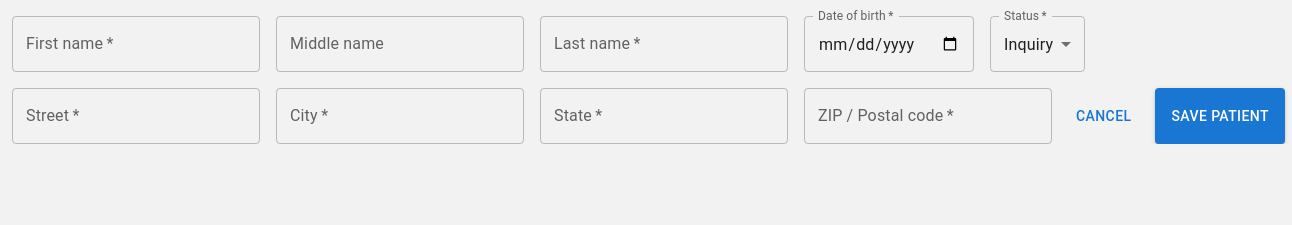
Test: PatientForm › shows error if API returns error
Type "Jane" into the field labelled "First name *".
click(136, 44); type("Jane")  # box [12,16,260,72]
Type "Smith" into the field labelled "Last name *".
click(664, 44); type("Smith")  # box [540,16,788,72]
Type "1990-05-05" into the date field labelled "Date of birth *".
click(889, 44); type("1990-05-05")  # box [804,16,974,72]
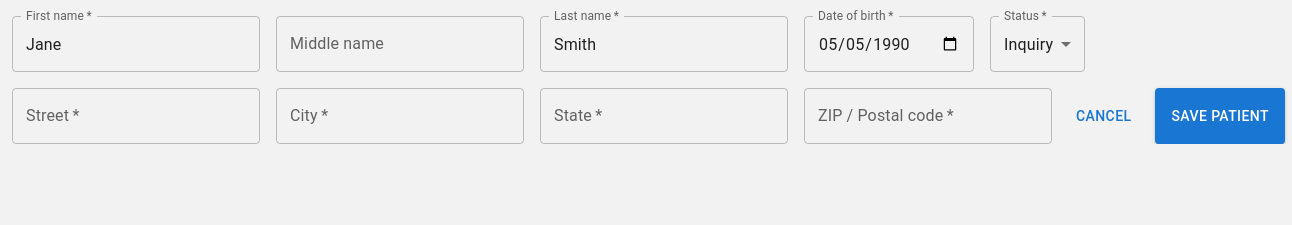
Type "123 Main St" into the field labelled "Street *".
click(136, 116); type("123 Main St")  # box [12,88,260,144]
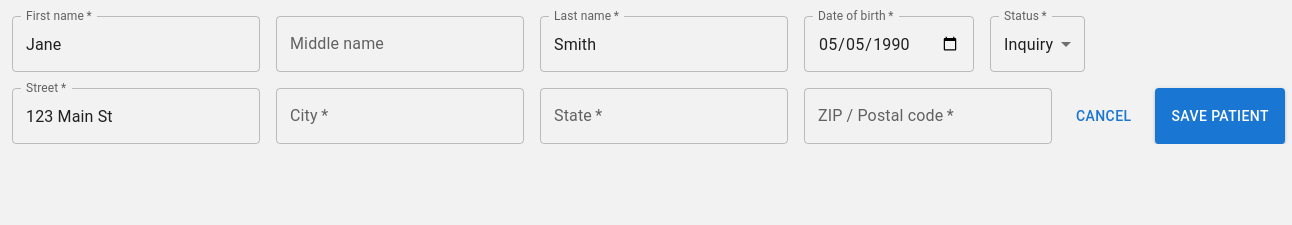
Type "Townsville" into the field labelled "City *".
click(400, 116); type("Townsville")  # box [276,88,524,144]
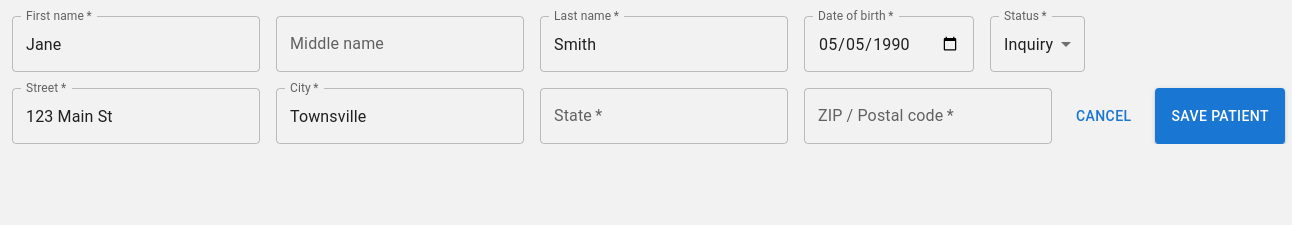
Type "CA" into the field labelled "State *".
click(664, 116); type("CA")  # box [540,88,788,144]
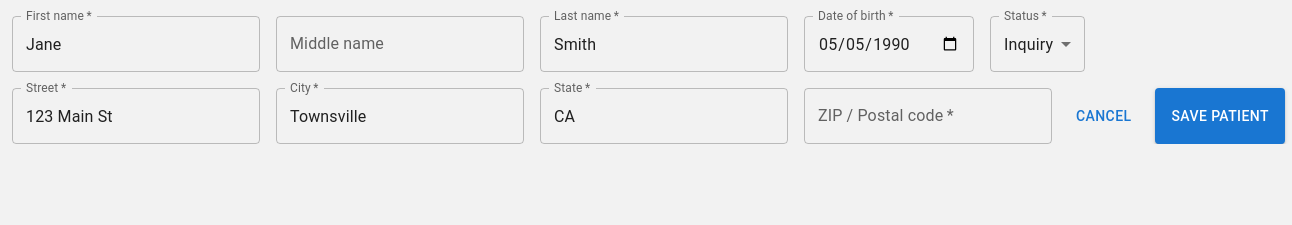
Type "90210" into the field labelled "ZIP / Postal code *".
click(928, 116); type("90210")  # box [804,88,1052,144]
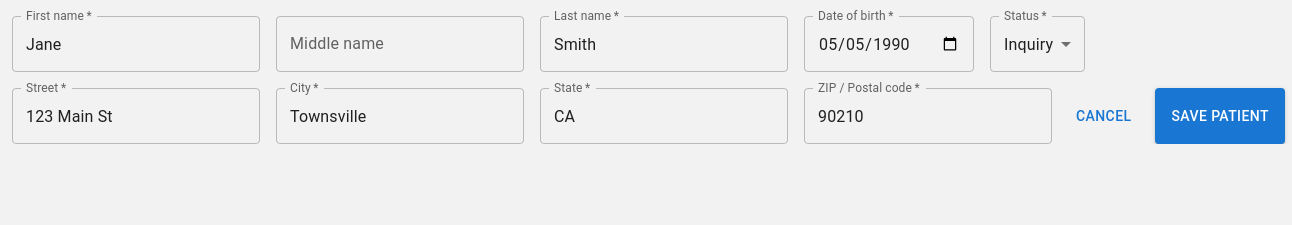
Click the button "Save Patient".
click(1220, 116)  # box [1156,88,1285,144]
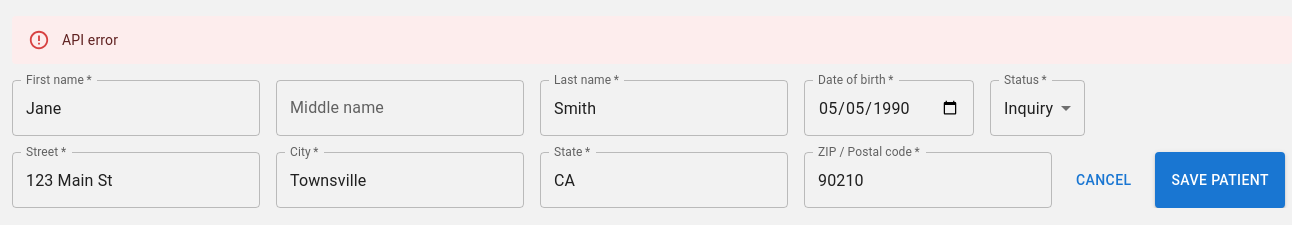
expect the text "API error" is shown: met, box [62,32,118,48]
